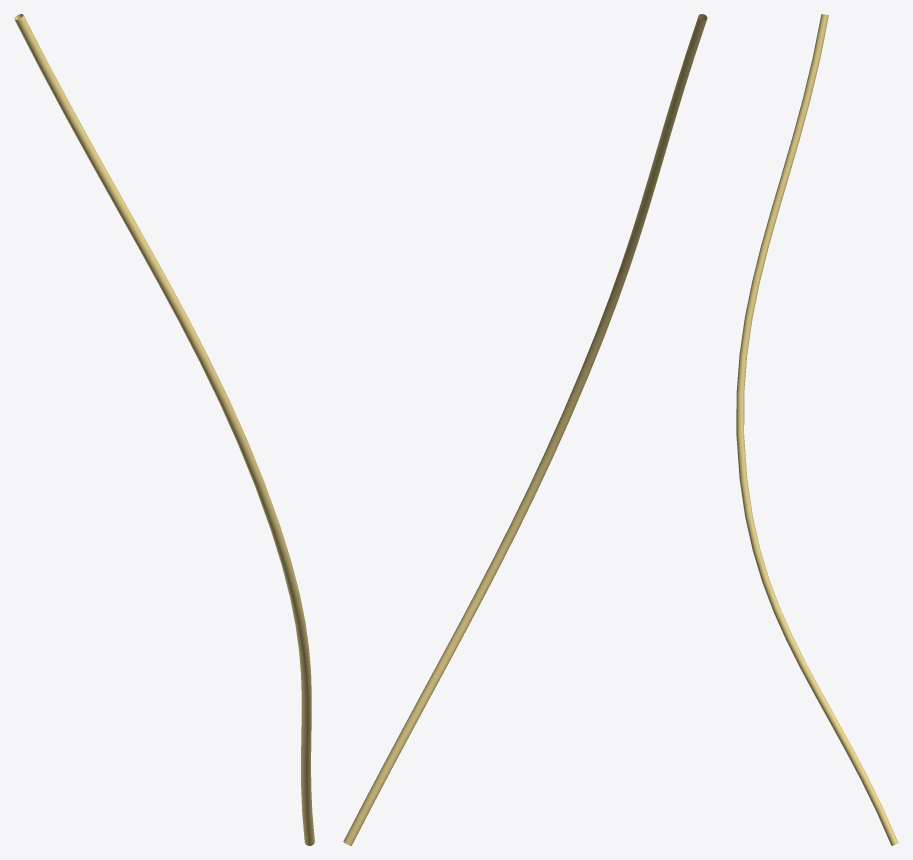
The picture shows the model from 3 angles, left to right: view 1: azimuth 30°, elevation 25°; view 2: azimuth 150°, elevation 25°; view 3: azimuth 270°, elevation 25°; orthographic projection. The views are drawn at different scales.
Parts seen in each view (by area): view 1: ZA_c5a75a8ddc630607; view 2: ZA_c5a75a8ddc630607; view 3: ZA_c5a75a8ddc630607.
Part boxes in pixels (<box>): ZA_c5a75a8ddc630607: <box>14,14,314,845</box>; ZA_c5a75a8ddc630607: <box>343,14,707,845</box>; ZA_c5a75a8ddc630607: <box>736,14,898,845</box>.
Bounding box in the file's own units: 0.0386 × 0.1008 × 0.0209.
